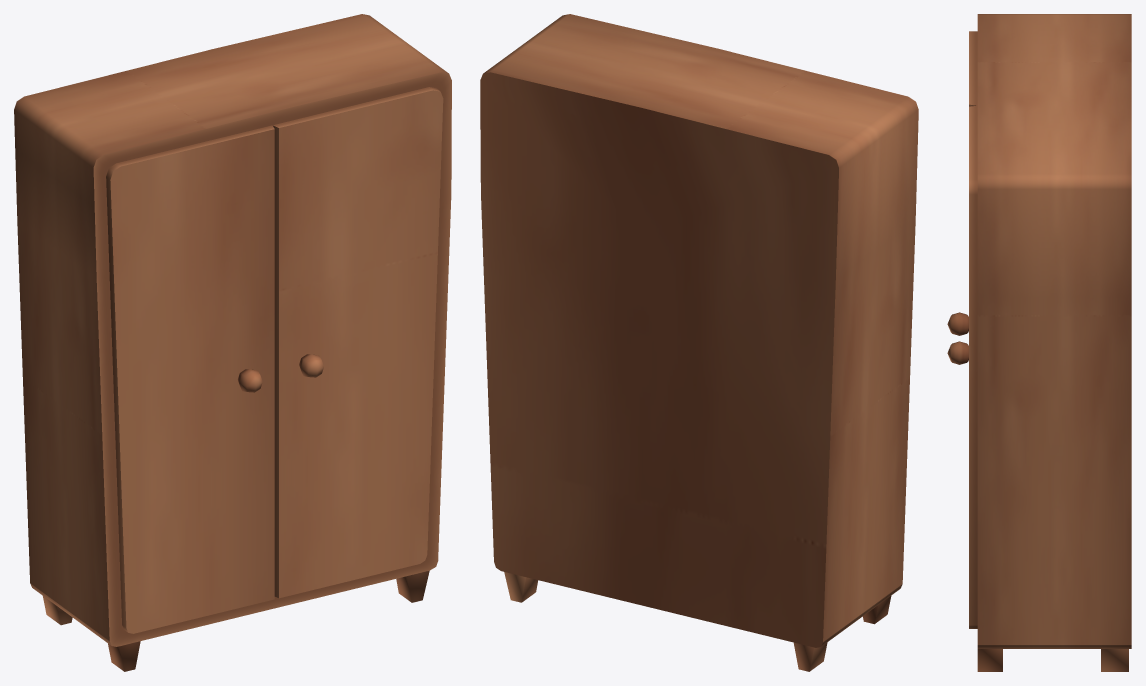
File: schrankzu.fbx
The picture shows the model from 3 angles, left to right: view 1: azimuth 30°, elevation 25°; view 2: azimuth 150°, elevation 25°; view 3: azimuth 270°, elevation 25°; orthographic projection. The views are drawn at different scales.
Parts seen in each view (by area): view 1: 1; view 2: 1; view 3: 1.
Boxes of the visible parts, <box> form: 1: <box>14,14,451,671</box>; 1: <box>480,14,918,671</box>; 1: <box>947,14,1131,671</box>.
Size of the model in its own units: 208 by 291 by 95.54.
